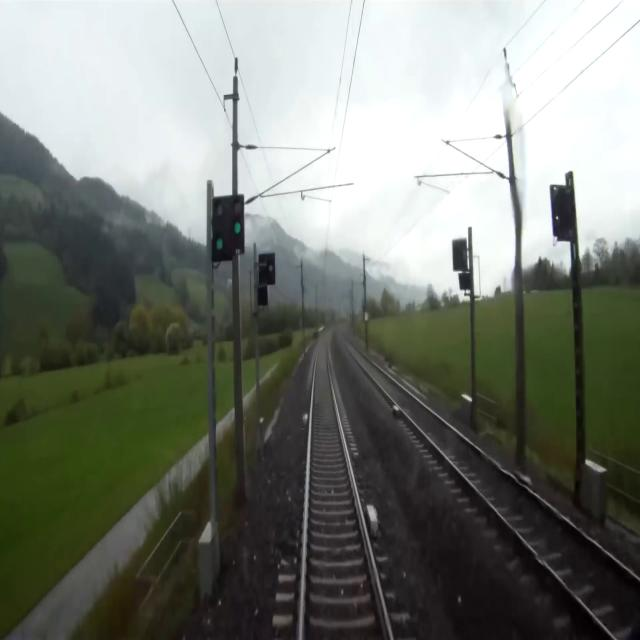rail-track: (342, 335, 640, 639), (303, 334, 389, 639)
